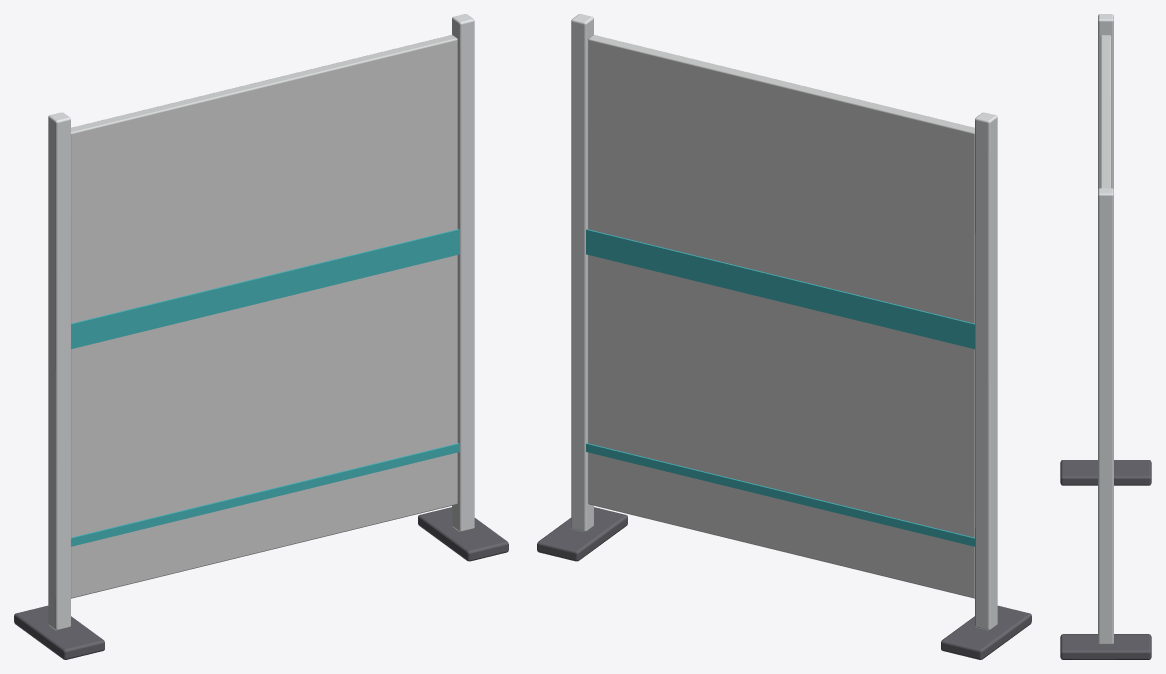
Rendered from tattoo-and-piercing-studio-booth-divider-panel-teal-63a717e1__34527.glb.
3 renders of one model, left to right at view 1: azimuth 30°, elevation 25°; view 2: azimuth 150°, elevation 25°; view 3: azimuth 270°, elevation 25°, orthographic. The views are drawn at different scales.
Parts seen in each view (by area): view 1: booth-divider-panel-teal; view 2: booth-divider-panel-teal; view 3: booth-divider-panel-teal.
Boxes of the visible parts, box(x1,y1,x2,y2) form: booth-divider-panel-teal: box(14, 14, 508, 659); booth-divider-panel-teal: box(537, 14, 1031, 659); booth-divider-panel-teal: box(1060, 14, 1151, 659).
Bounding box in the file's own units: 1.7 × 1.9 × 0.3399.
